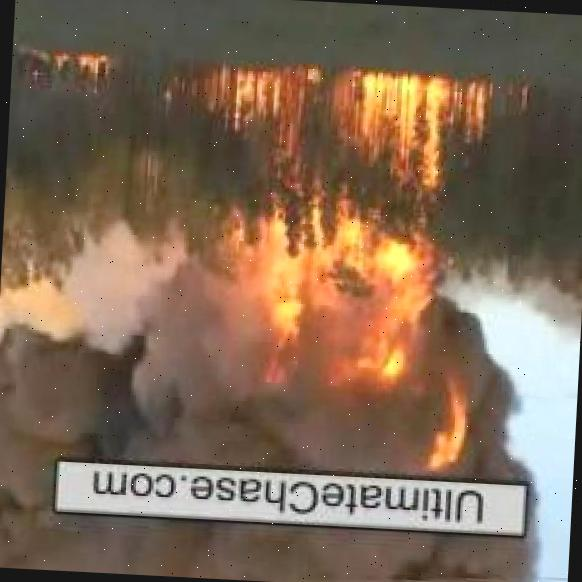smoke: (0, 360, 385, 469), (0, 511, 499, 582), (19, 229, 190, 367)
